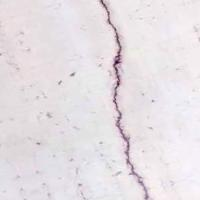crack: (80, 0, 156, 199)
